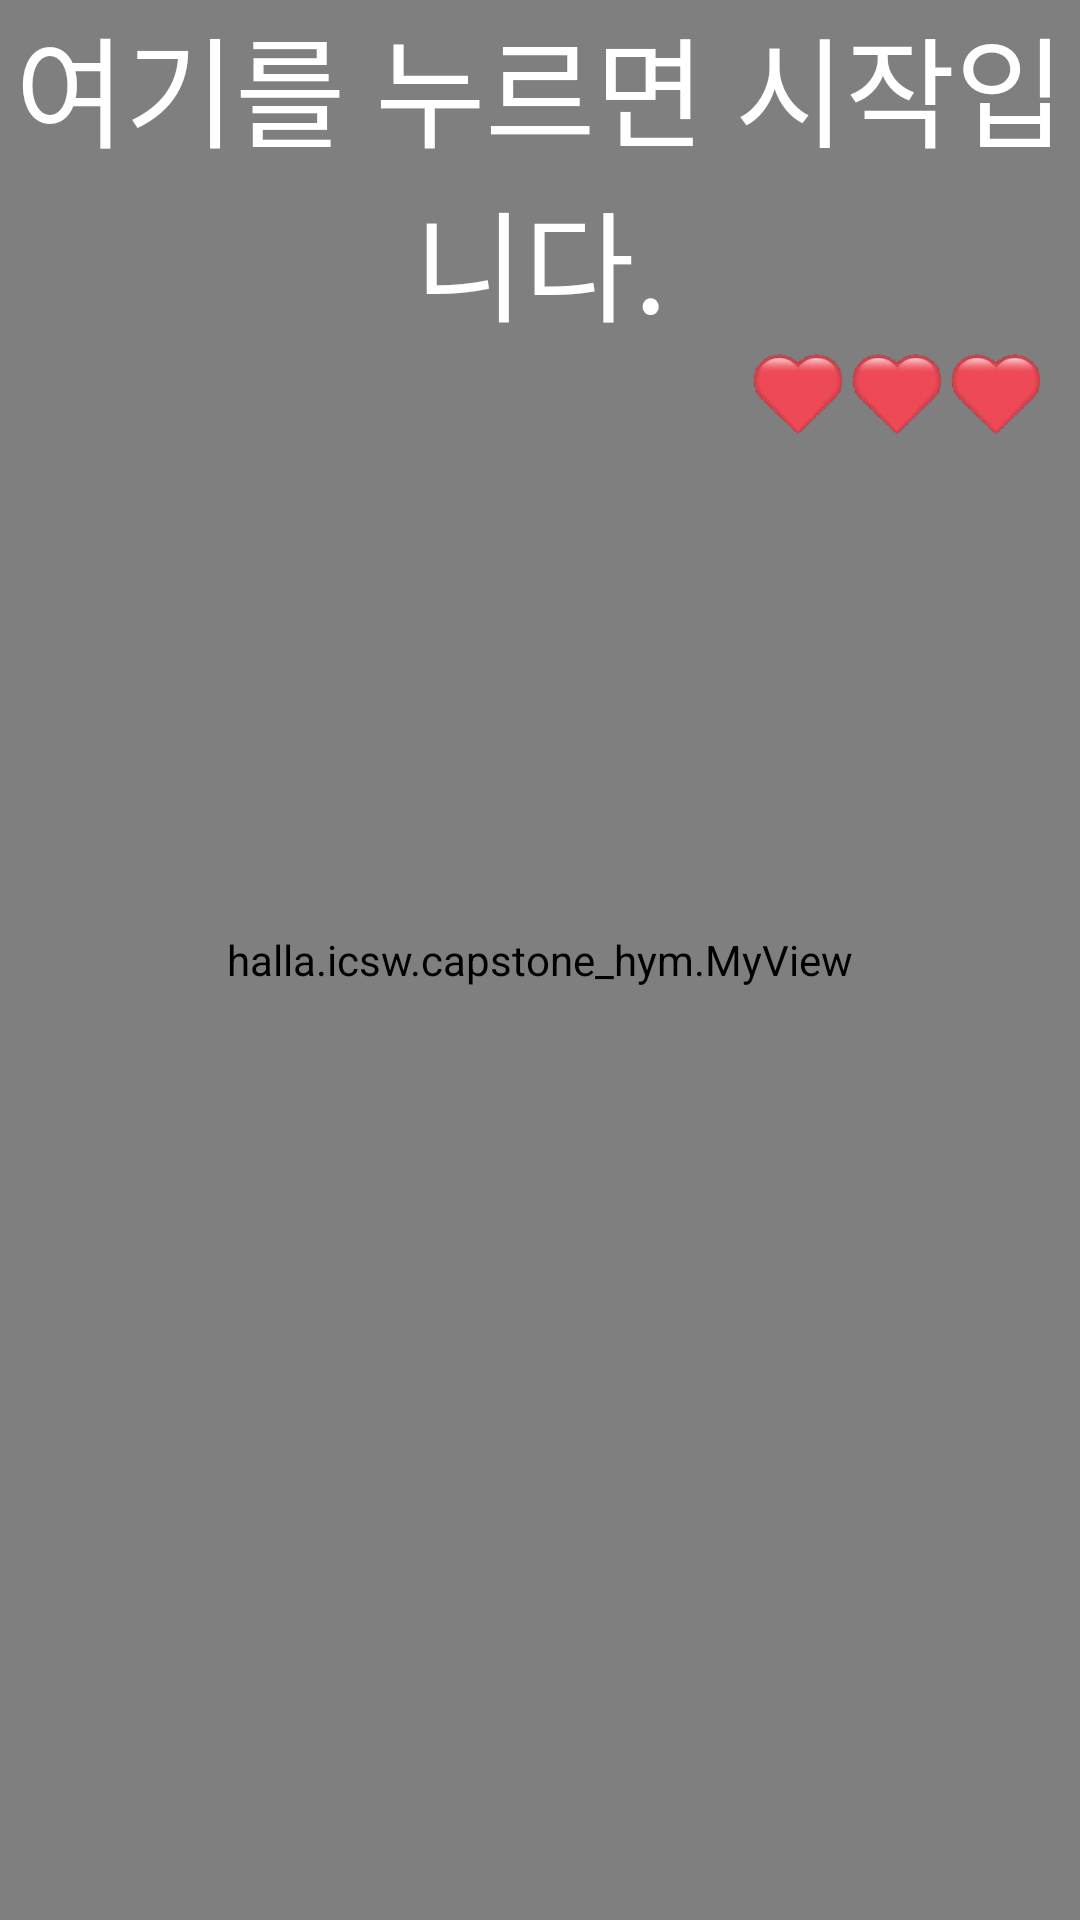

Icons on this 1080 x 1920 Android screen, each with the point to tap as point (x, y):
life: point (797, 394), point (896, 394), point (995, 394)
